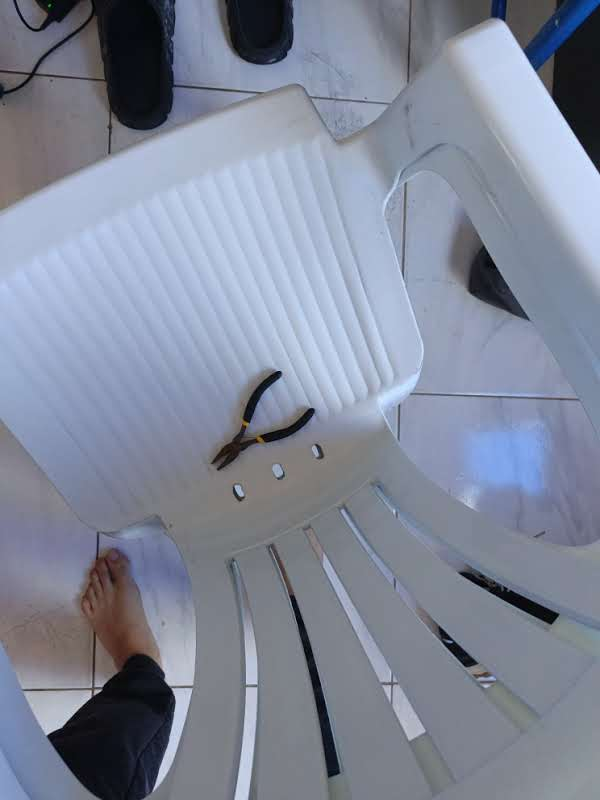Pinzas: (210, 366, 315, 470)
